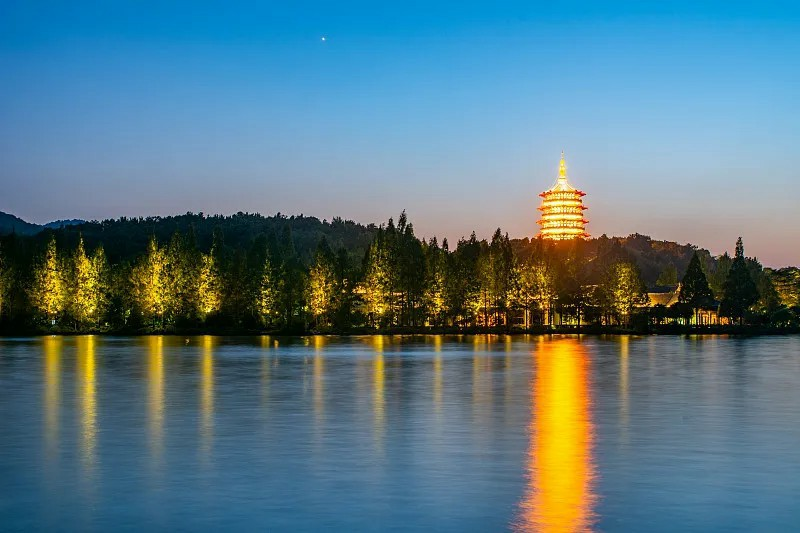Leifeng: (535, 147, 591, 243)
